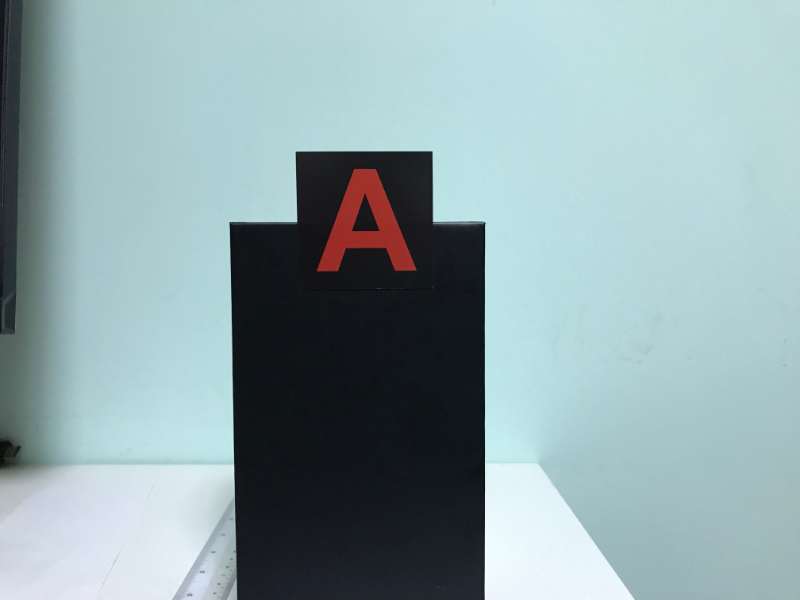A-11: (298, 152, 432, 288)
